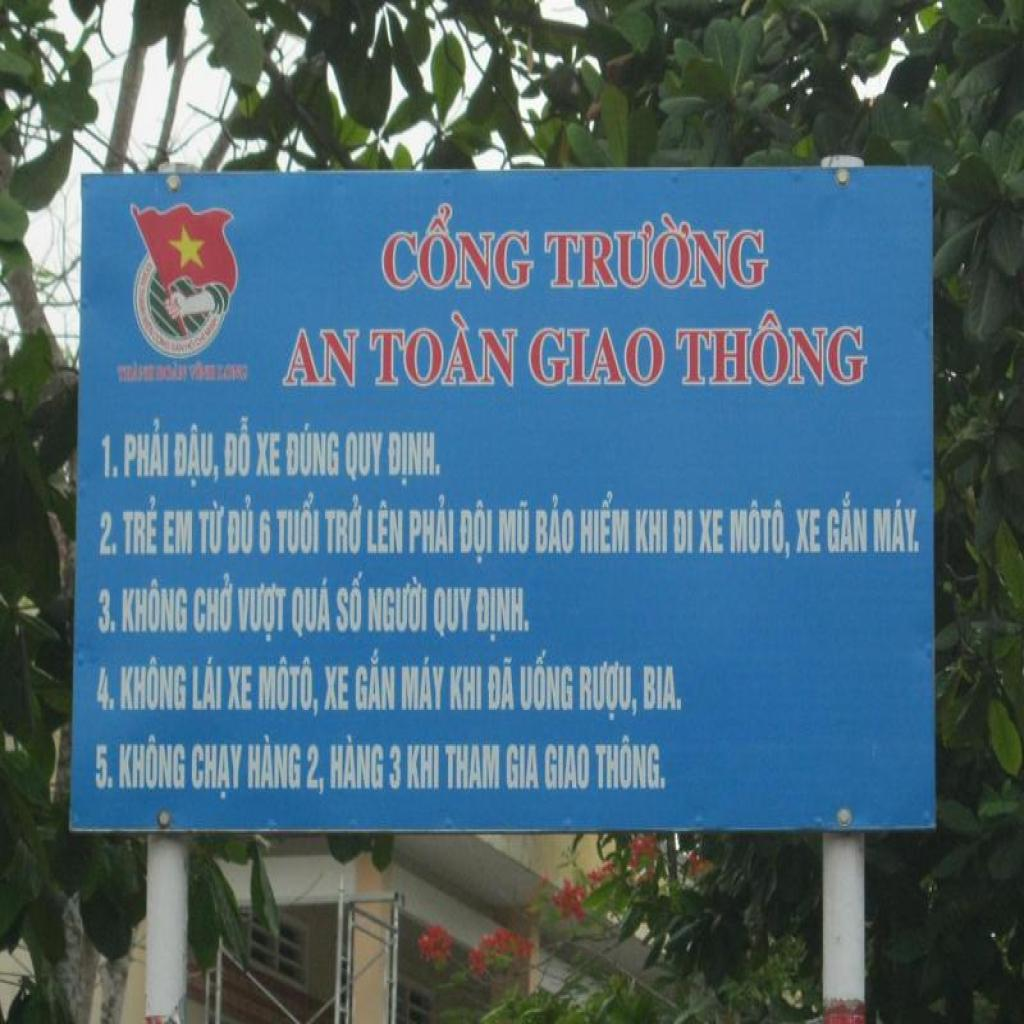text: (541, 206, 772, 297), (674, 307, 874, 396), (382, 205, 536, 295), (366, 314, 524, 396), (530, 317, 668, 391), (276, 324, 364, 393), (257, 652, 323, 722), (117, 732, 188, 795), (728, 497, 794, 563), (577, 657, 640, 725), (119, 652, 189, 713), (122, 575, 190, 635), (285, 416, 343, 482), (520, 648, 574, 718), (368, 575, 428, 635), (580, 490, 631, 560), (478, 578, 532, 644), (329, 734, 387, 795), (246, 732, 303, 794), (173, 422, 223, 492), (236, 580, 290, 644), (386, 427, 443, 486), (192, 738, 246, 800), (407, 490, 456, 558), (122, 416, 172, 482), (826, 486, 869, 558), (355, 645, 398, 715), (444, 741, 503, 792), (401, 654, 449, 716), (276, 492, 322, 556), (872, 498, 922, 556), (291, 573, 334, 640), (535, 493, 577, 558), (458, 497, 497, 565), (544, 740, 593, 794), (325, 492, 366, 556), (192, 573, 234, 635), (641, 660, 686, 717), (344, 425, 386, 483), (432, 582, 474, 640), (365, 497, 406, 556), (123, 493, 159, 558), (496, 496, 532, 560), (335, 565, 366, 636), (222, 414, 254, 480), (191, 652, 224, 713), (506, 740, 542, 794), (448, 662, 485, 714), (197, 498, 228, 558), (161, 505, 196, 558), (487, 652, 517, 713), (634, 506, 670, 556), (406, 742, 442, 792), (226, 494, 254, 556), (320, 662, 352, 712), (255, 426, 284, 480), (795, 500, 823, 555), (698, 504, 727, 556), (304, 739, 328, 800), (226, 662, 254, 714), (94, 507, 118, 560), (94, 582, 118, 635), (98, 427, 120, 481), (672, 506, 695, 556), (96, 662, 116, 717), (94, 742, 116, 792), (155, 358, 189, 386), (218, 360, 254, 386), (114, 362, 156, 382), (388, 741, 404, 792), (258, 505, 272, 558)
